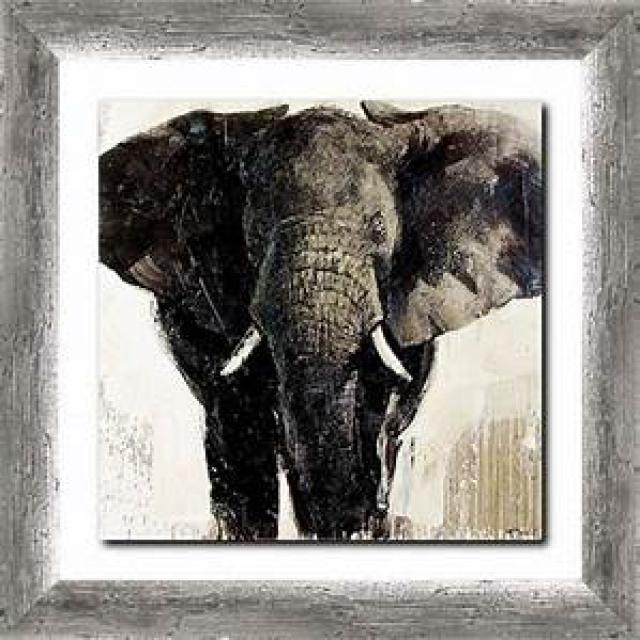elephant: (96, 102, 548, 546)
